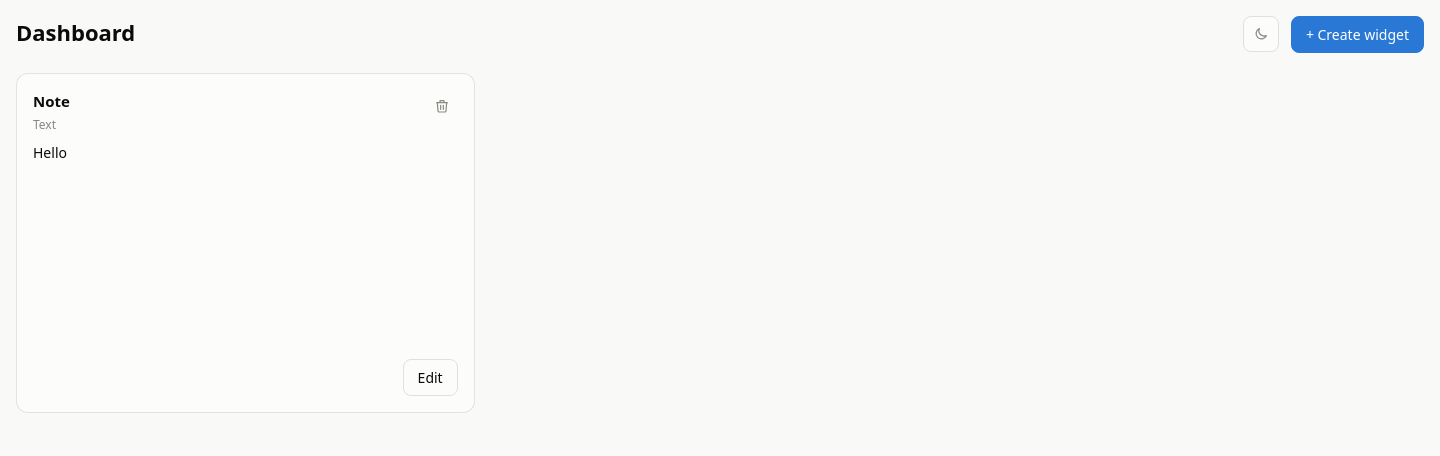
Test: Dashboard › edits text and keeps the draft when saving fails
This screenshot has width=1440, height=456.
Click the button "Edit" at (430, 378), box [403, 359, 458, 396]
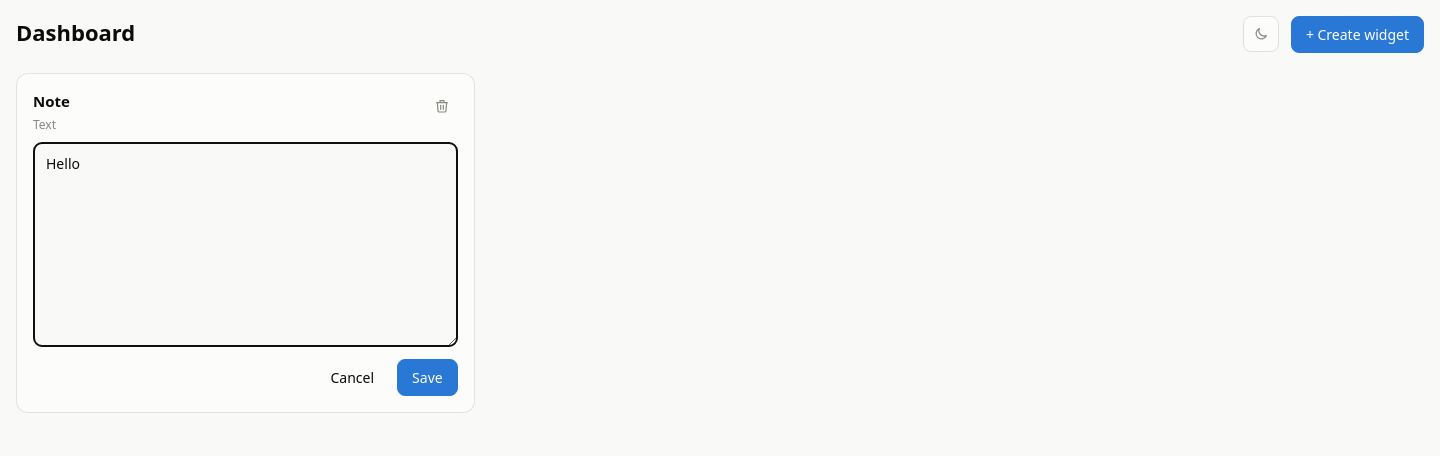
Replace the text in the text box with "Updated" at (245, 244), box [33, 142, 458, 347]
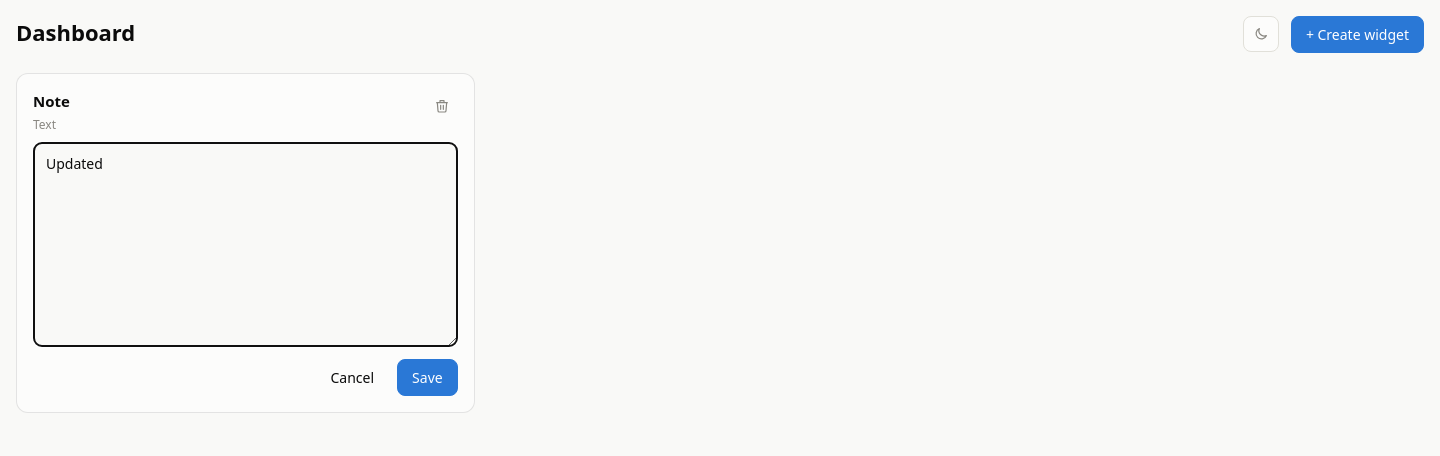
Click the button "Save" at (427, 378), box [397, 359, 458, 396]
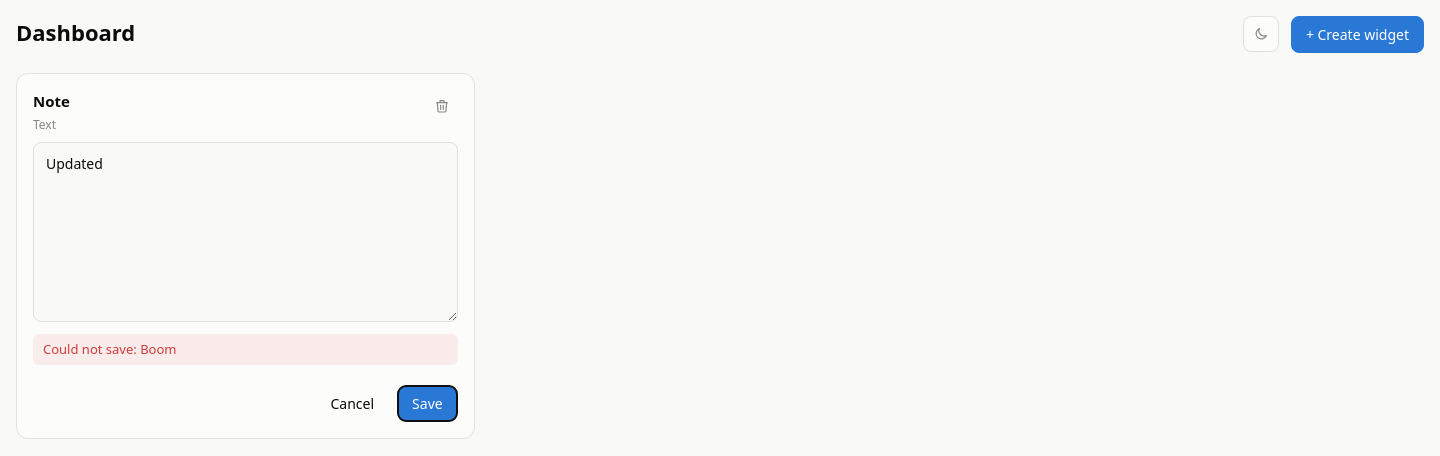
Result: the text "Could not save: Boom" is shown at [33, 334, 458, 365]
Click the button "Save" at (427, 404), box [397, 385, 458, 422]
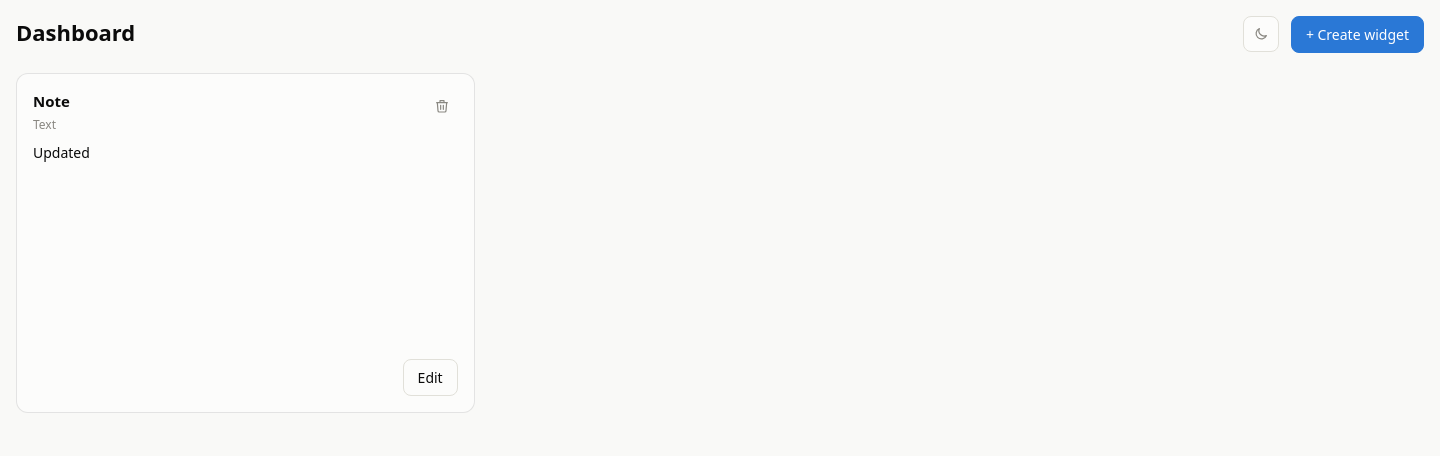
Result: the text "Updated" is shown at [33, 142, 90, 162]
